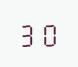three: (19, 20, 38, 47)
zero: (39, 19, 58, 46)
